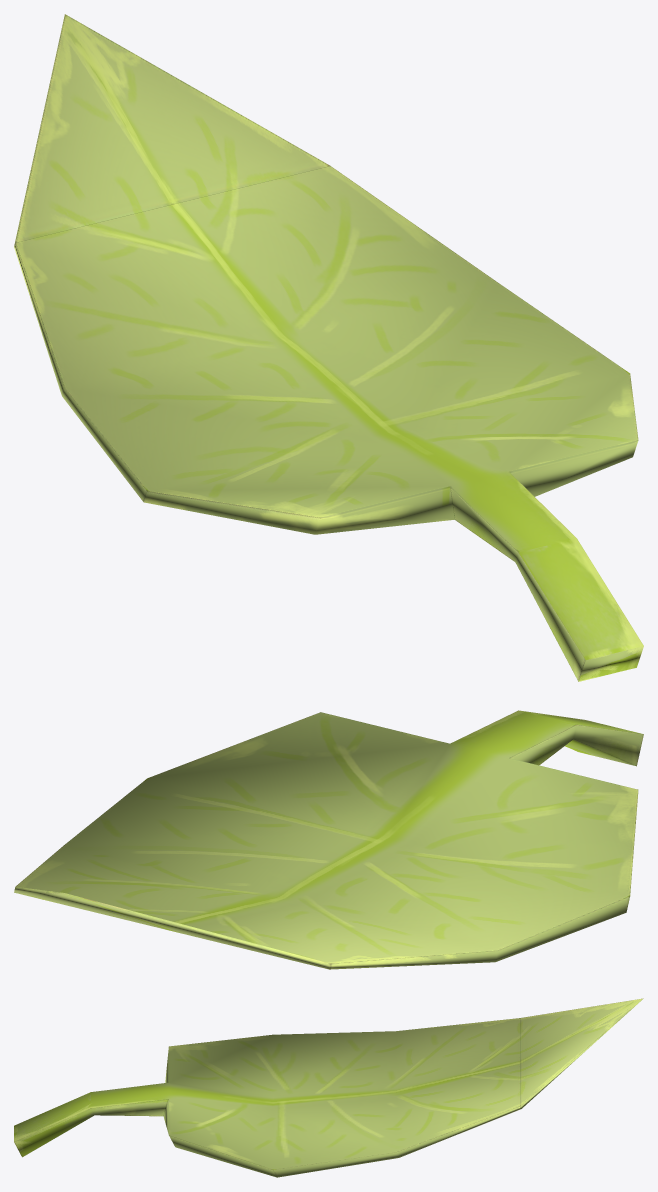
Rendered from BlattExport.gltf.
3 renders of one model, top to bottom at view 1: azimuth 30°, elevation 25°; view 2: azimuth 150°, elevation 25°; view 3: azimuth 270°, elevation 25°, orthographic. The views are drawn at different scales.
Visible parts, largest first — view 1: Cube; view 2: Cube; view 3: Cube.
Boxes of the visible parts, x1,y1,x2,y2 form: Cube: (14,14,643,681); Cube: (14,710,643,969); Cube: (14,998,643,1177).
Bounding box in the file's own units: 3.04 × 1.58 × 5.99.
1 material, 1 textured.
